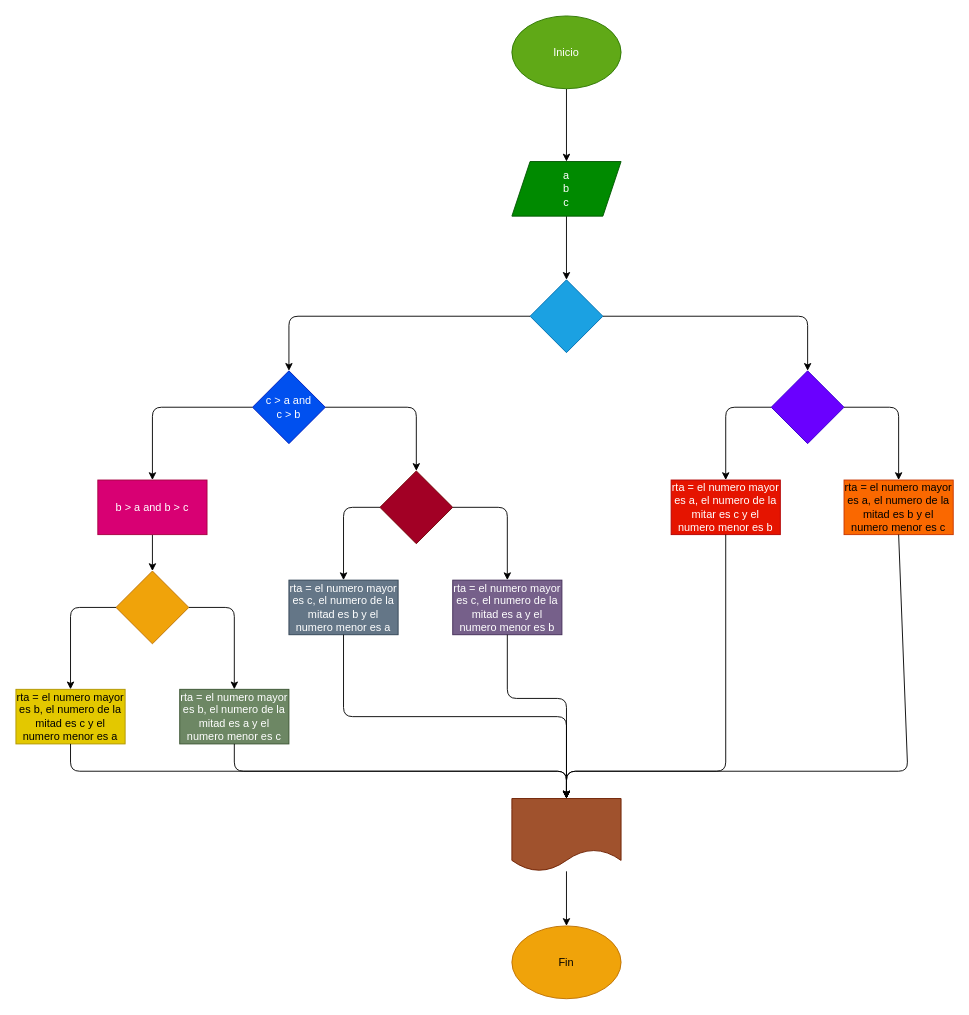
Some shapes in this 969 by 1015 pixel diagram are drawn without their labels. Here are the shapes that lost their labels. From the top down, the centre of each, then its label:
At pixel 566 316: "a > b and a > c".
At pixel 807 407: "b > c".
At pixel 416 507: "a > b".
At pixel 152 607: "a > c".
At pixel 566 834: "rta".
